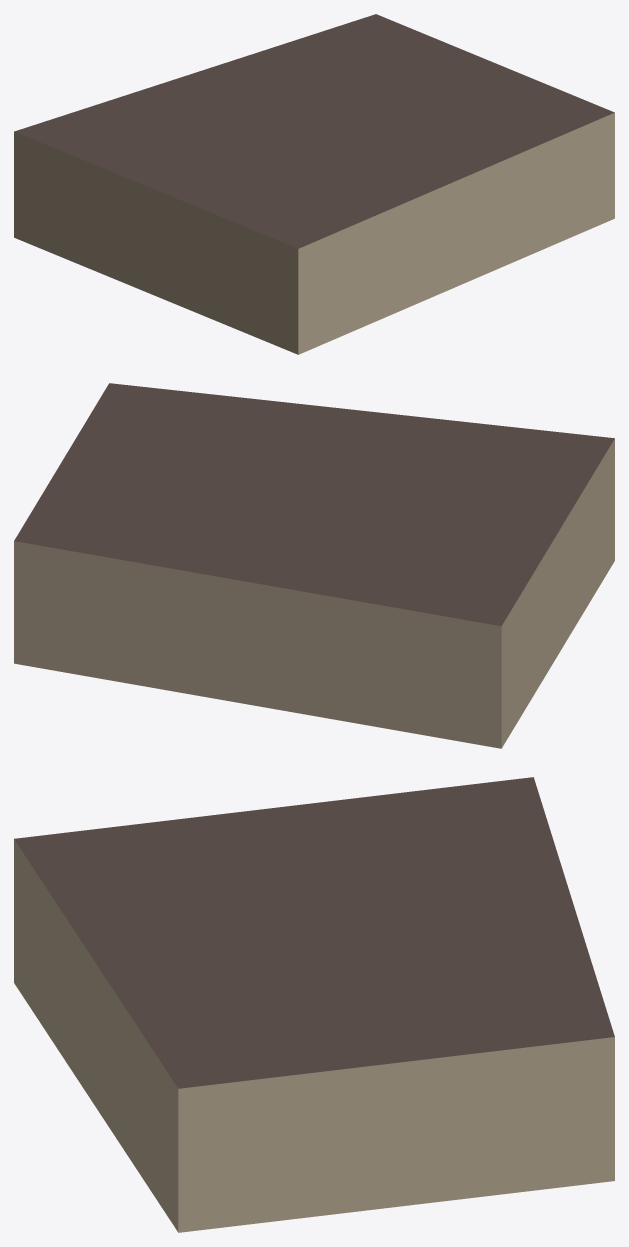
3 views of the same model, one above another, from view 1: azimuth 30°, elevation 25°; view 2: azimuth 150°, elevation 25°; view 3: azimuth 270°, elevation 25° (orthographic). The views are drawn at different scales.
Visible parts, largest first — view 1: HP-w859488822; view 2: HP-w859488822; view 3: HP-w859488822.
Part boxes in pixels (x1=…): HP-w859488822: x1=14, y1=14, x2=614, y2=354; HP-w859488822: x1=14, y1=383, x2=614, y2=748; HP-w859488822: x1=14, y1=777, x2=614, y2=1232.
Size of the model in its own units: 41.76 by 9 by 34.03.
